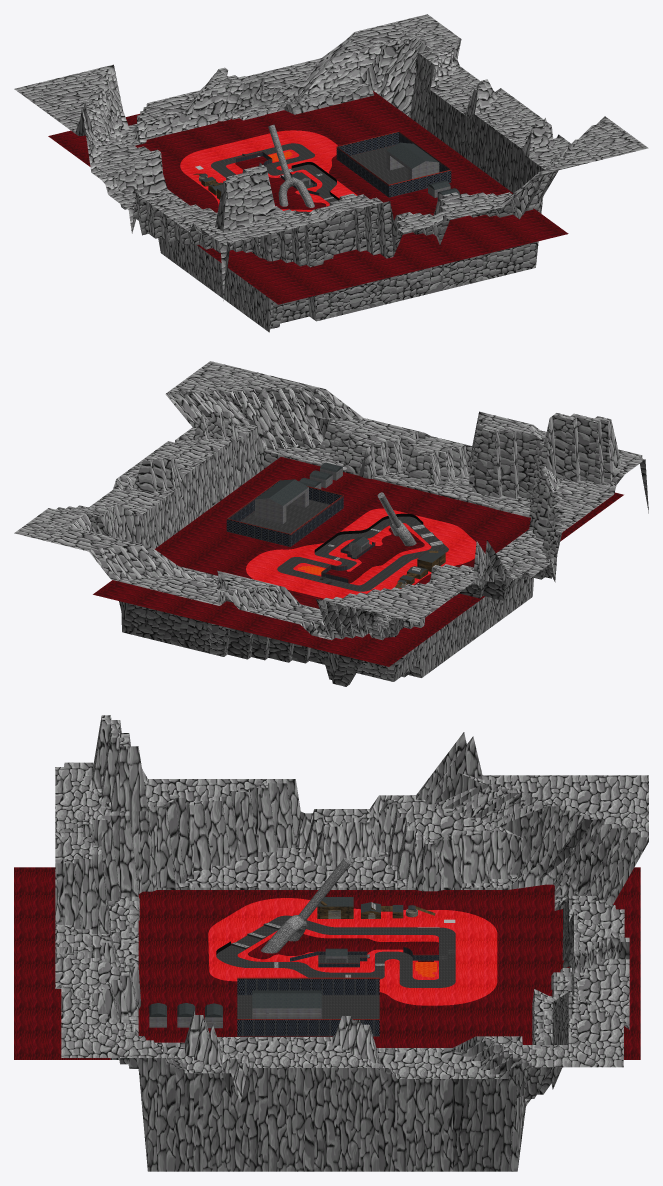
3 renders of one model, top to bottom at view 1: azimuth 30°, elevation 25°; view 2: azimuth 150°, elevation 25°; view 3: azimuth 270°, elevation 25°, orthographic. The views are drawn at different scales.
Parts seen in each view (by area): view 1: StoneAgeGulch_GRP_Plane001_179541_rock, StoneAgeGulch_SKP__sandOOB, StoneAgeGulch_SKP__sand, StoneAgeGulch_SKP__Material3, StoneAgeGulch_SKP__fence3, StoneAgeGulch_SKP__roof, StoneAgeGulch_SKP__siding, StoneAgeGulch_GRP_Cylinder001_178487_rock; view 2: StoneAgeGulch_GRP_Plane001_179541_rock, StoneAgeGulch_SKP__sandOOB, StoneAgeGulch_SKP__sand, StoneAgeGulch_SKP__Material3, StoneAgeGulch_SKP__fence3, StoneAgeGulch_SKP__roof, StoneAgeGulch_SKP__siding, StoneAgeGulch_SKP__wood1; view 3: StoneAgeGulch_GRP_Plane001_179541_rock, StoneAgeGulch_SKP__sandOOB, StoneAgeGulch_SKP__sand, StoneAgeGulch_SKP__Material3, StoneAgeGulch_SKP__fence3, StoneAgeGulch_SKP__roof, StoneAgeGulch_SKP__siding, StoneAgeGulch_GRP_Cylinder001_178487_rock, StoneAgeGulch_SKP__wood1, StoneAgeGulch_GRP_Cylinder002_178488_rock.
Boxes of the visible parts, left/top/right/bottom form: StoneAgeGulch_GRP_Plane001_179541_rock: left=14, top=14, right=648, bottom=332; StoneAgeGulch_SKP__sandOOB: left=48, top=91, right=568, bottom=304; StoneAgeGulch_SKP__sand: left=180, top=130, right=357, bottom=211; StoneAgeGulch_SKP__Material3: left=211, top=143, right=408, bottom=214; StoneAgeGulch_SKP__fence3: left=336, top=131, right=451, bottom=197; StoneAgeGulch_SKP__roof: left=199, top=142, right=459, bottom=195; StoneAgeGulch_SKP__siding: left=199, top=151, right=459, bottom=199; StoneAgeGulch_GRP_Cylinder001_178487_rock: left=278, top=177, right=314, bottom=207; StoneAgeGulch_GRP_Plane001_179541_rock: left=14, top=361, right=648, bottom=686; StoneAgeGulch_SKP__sandOOB: left=93, top=457, right=623, bottom=666; StoneAgeGulch_SKP__sand: left=246, top=508, right=476, bottom=598; StoneAgeGulch_SKP__Material3: left=240, top=499, right=448, bottom=591; StoneAgeGulch_SKP__fence3: left=226, top=479, right=343, bottom=546; StoneAgeGulch_SKP__roof: left=255, top=462, right=444, bottom=582; StoneAgeGulch_SKP__siding: left=255, top=468, right=406, bottom=584; StoneAgeGulch_SKP__wood1: left=395, top=550, right=445, bottom=588; StoneAgeGulch_GRP_Plane001_179541_rock: left=55, top=715, right=648, bottom=1171; StoneAgeGulch_SKP__sandOOB: left=14, top=867, right=640, bottom=1059; StoneAgeGulch_SKP__sand: left=208, top=898, right=497, bottom=1005; StoneAgeGulch_SKP__Material3: left=216, top=902, right=455, bottom=1018; StoneAgeGulch_SKP__fence3: left=237, top=977, right=379, bottom=1036; StoneAgeGulch_SKP__roof: left=149, top=897, right=415, bottom=1017; StoneAgeGulch_SKP__siding: left=149, top=910, right=415, bottom=1028; StoneAgeGulch_GRP_Cylinder001_178487_rock: left=261, top=915, right=307, bottom=953; StoneAgeGulch_SKP__wood1: left=317, top=901, right=435, bottom=918; StoneAgeGulch_GRP_Cylinder002_178488_rock: left=298, top=858, right=351, bottom=921.
Bounding box in the file's own units: 184247 × 72564 × 174321.
17 materials, 16 textured.
